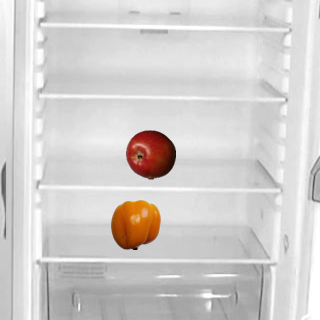Apple Braeburn: (125, 129, 175, 179)
Pepper Yellow: (110, 199, 160, 249)
